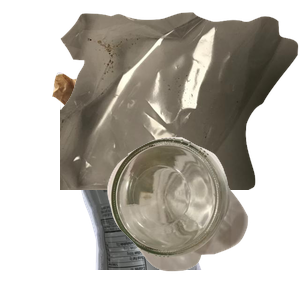cardboard: (50, 62, 228, 226)
glass: (105, 135, 300, 300)
plastic: (71, 120, 265, 300)
trash: (60, 10, 300, 190)
